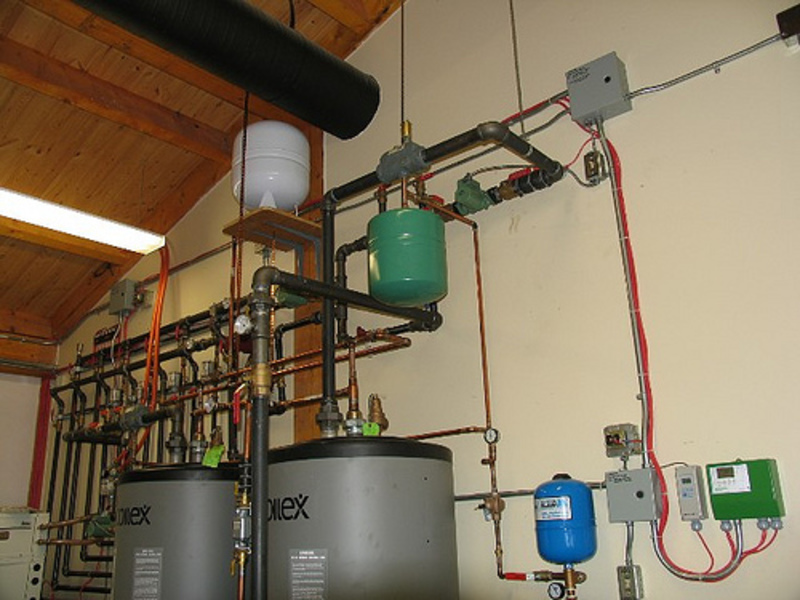valve: (227, 369, 277, 427), (500, 162, 557, 191), (497, 566, 558, 590), (227, 545, 255, 587)
